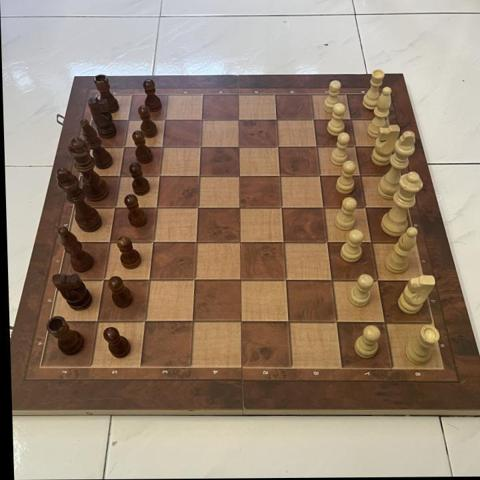xcorner: (137, 313, 154, 330), (184, 313, 201, 330), (279, 313, 296, 330), (376, 313, 393, 330), (141, 272, 158, 289), (186, 272, 203, 289), (275, 234, 292, 251), (149, 200, 166, 217), (273, 199, 290, 216), (315, 199, 332, 216), (357, 199, 374, 216), (153, 169, 170, 186), (192, 168, 209, 185), (232, 168, 249, 185), (311, 167, 328, 184), (118, 140, 135, 157), (156, 140, 173, 157), (232, 139, 249, 156), (308, 138, 325, 155), (159, 113, 176, 130), (195, 113, 212, 130), (232, 112, 249, 129), (342, 111, 359, 128), (90, 314, 107, 330), (232, 313, 248, 330), (328, 313, 344, 330), (97, 272, 113, 289), (232, 272, 248, 289), (277, 272, 294, 288), (323, 272, 340, 288), (369, 272, 386, 288), (103, 235, 120, 251), (189, 234, 205, 251), (232, 234, 248, 251), (191, 200, 207, 217), (232, 200, 249, 216), (114, 169, 130, 186), (272, 168, 288, 185), (352, 167, 368, 184), (194, 140, 211, 156), (270, 139, 287, 155), (347, 138, 363, 155), (123, 114, 140, 130), (269, 112, 285, 129), (305, 112, 322, 128), (146, 235, 162, 251), (319, 234, 335, 250), (363, 234, 379, 250), (109, 201, 125, 217)
